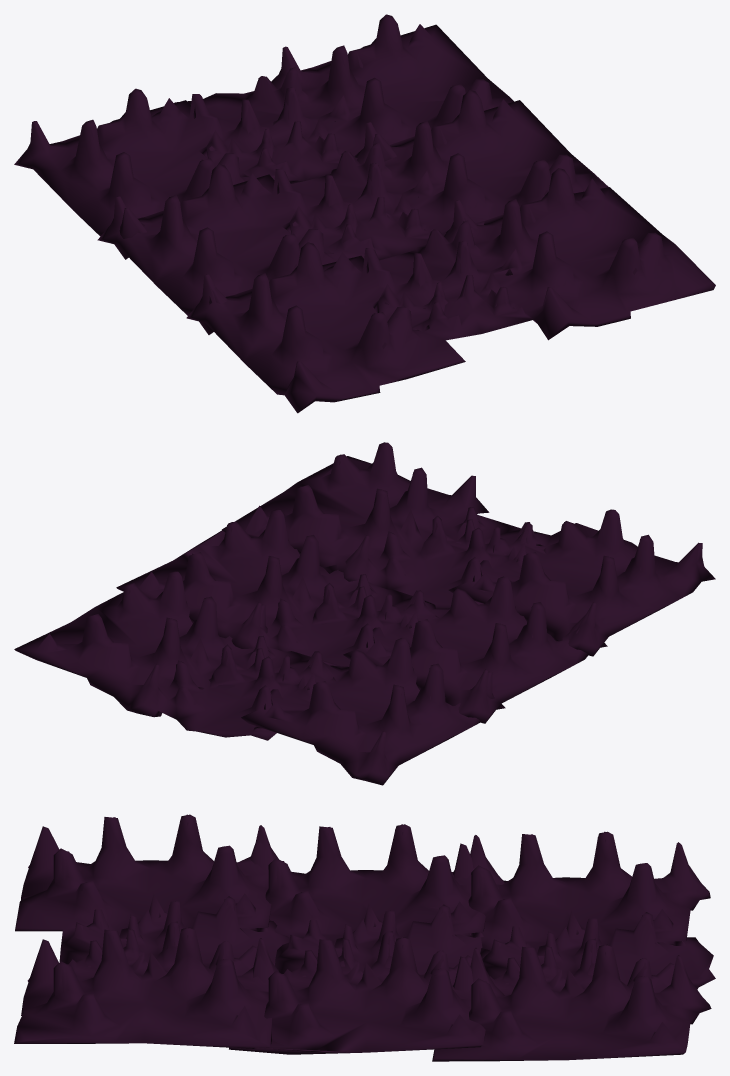
The model's file is floor.glb.
3 views of the same model, one above another, from view 1: azimuth 30°, elevation 25°; view 2: azimuth 150°, elevation 25°; view 3: azimuth 270°, elevation 25° (orthographic). The views are drawn at different scales.
Parts seen in each view (by area): view 1: inst_1.003; view 2: inst_1.003; view 3: inst_1.003.
Part boxes in pixels (x1,y1,x2,y2): inst_1.003: [14, 14, 715, 413]; inst_1.003: [14, 442, 715, 785]; inst_1.003: [14, 814, 715, 1061].
Size of the model in its own units: 6.9 by 1.27 by 8.88.
